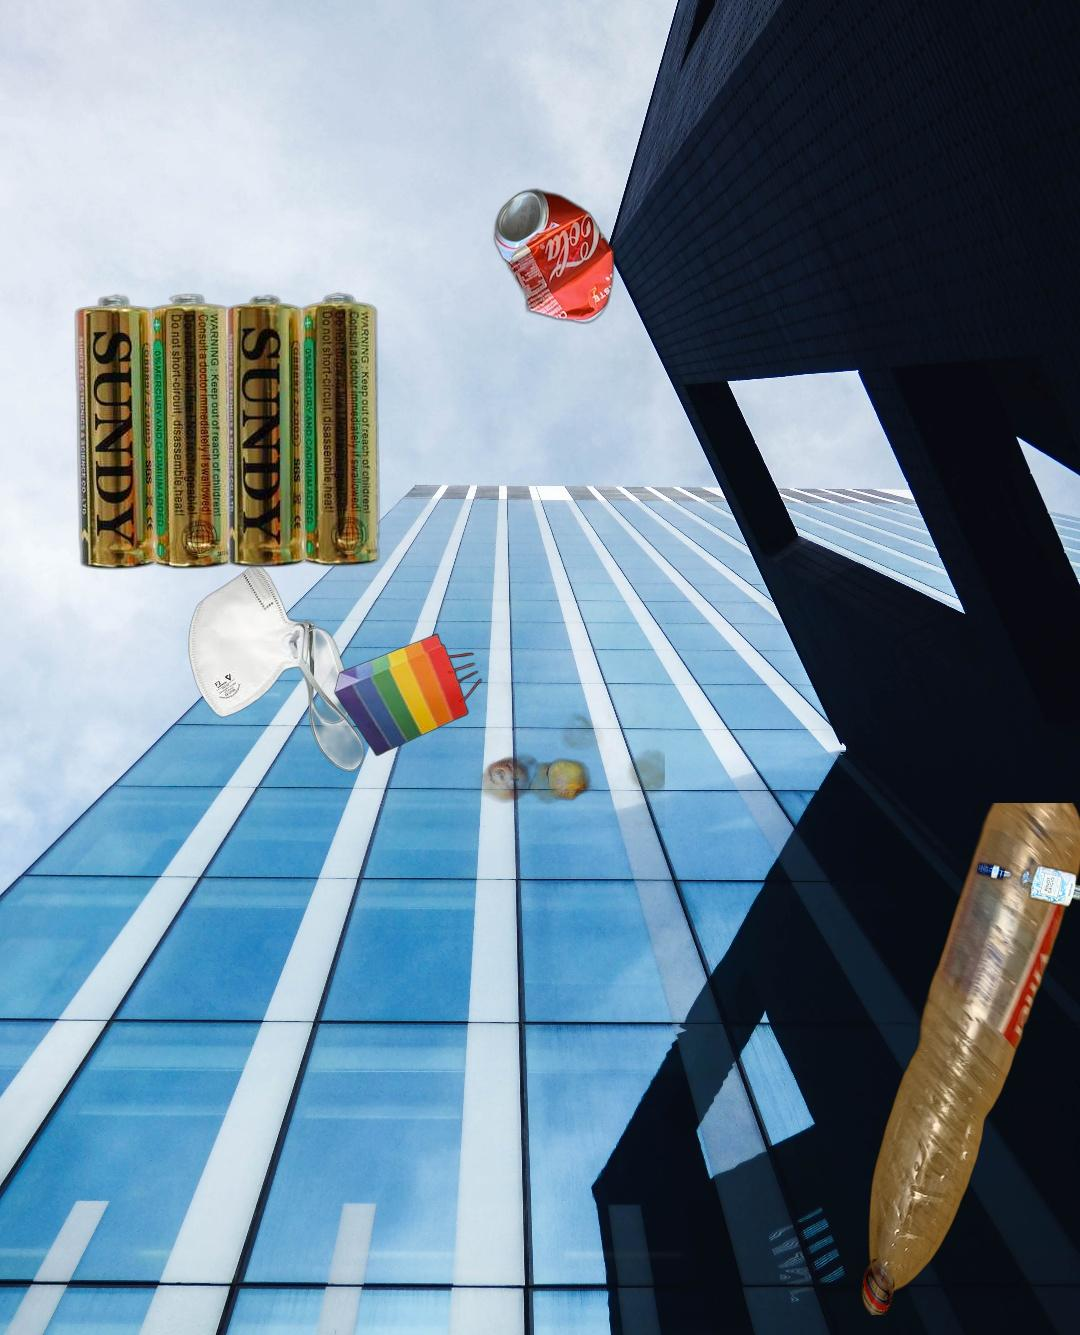battery: (71, 290, 384, 572)
biological: (387, 653, 665, 828)
glass: (966, 832, 1080, 973)
metal-cans: (490, 184, 619, 330)
paper-bag: (332, 631, 485, 759)
plastic-bottles: (858, 803, 1080, 1315)
trash: (186, 561, 389, 780)
